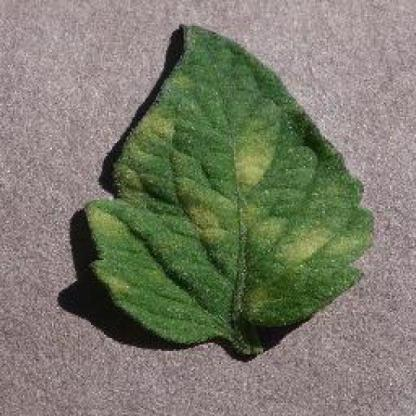Tomato_Leaf_Mold: (88, 25, 373, 341)
